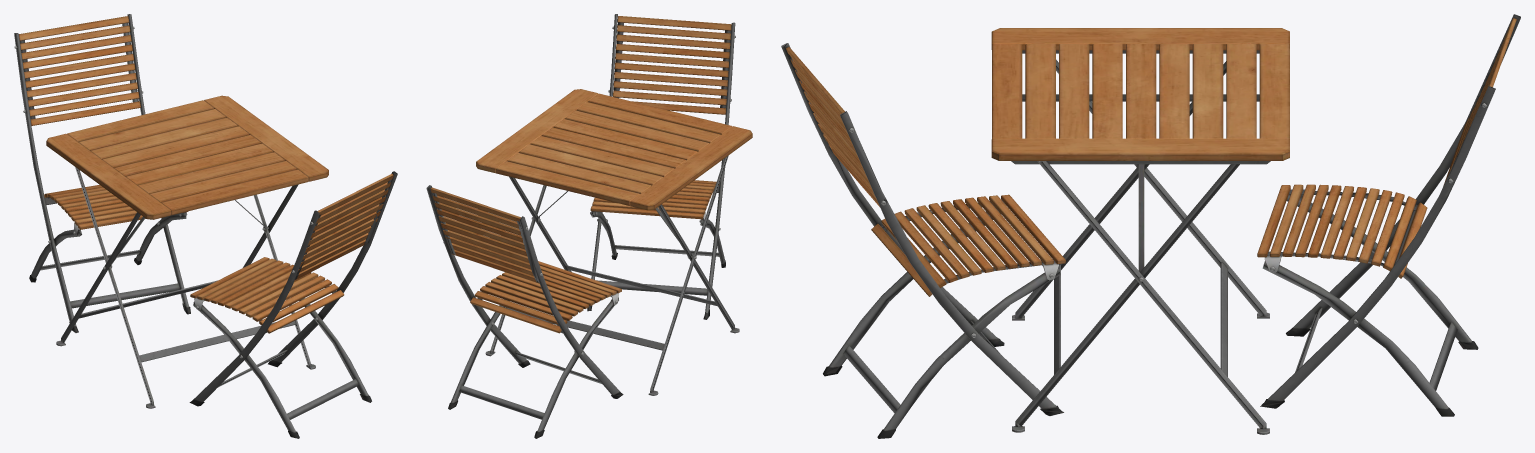
File: outdoor_table_chair_set_01.glb
3 renders of one model, left to right at view 1: azimuth 30°, elevation 25°; view 2: azimuth 150°, elevation 25°; view 3: azimuth 270°, elevation 25°, orthographic. The views are drawn at different scales.
Visible parts, largest first — view 1: outdoor_table_chair_set_01_chair_01, outdoor_table_chair_set_01_table; view 2: outdoor_table_chair_set_01_chair_01, outdoor_table_chair_set_01_table; view 3: outdoor_table_chair_set_01_table, outdoor_table_chair_set_01_chair_01.
Boxes of the visible parts, left/top/right/bottom form: outdoor_table_chair_set_01_chair_01: left=14, top=14, right=397, bottom=438; outdoor_table_chair_set_01_table: left=46, top=95, right=328, bottom=408; outdoor_table_chair_set_01_chair_01: left=426, top=14, right=735, bottom=438; outdoor_table_chair_set_01_table: left=476, top=89, right=752, bottom=395; outdoor_table_chair_set_01_table: left=991, top=28, right=1289, bottom=434; outdoor_table_chair_set_01_chair_01: left=781, top=14, right=1520, bottom=438.
Bounding box in the file's own units: 0.7416 × 0.8579 × 1.72.
2 materials, 2 textured.
